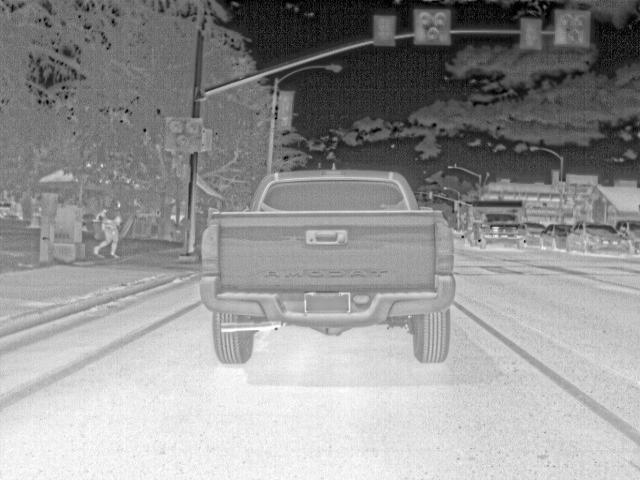car: (197, 168, 456, 364), (569, 221, 619, 257), (542, 222, 572, 251), (524, 222, 546, 248), (623, 220, 640, 234)
person: (95, 199, 122, 259), (619, 223, 639, 257)
